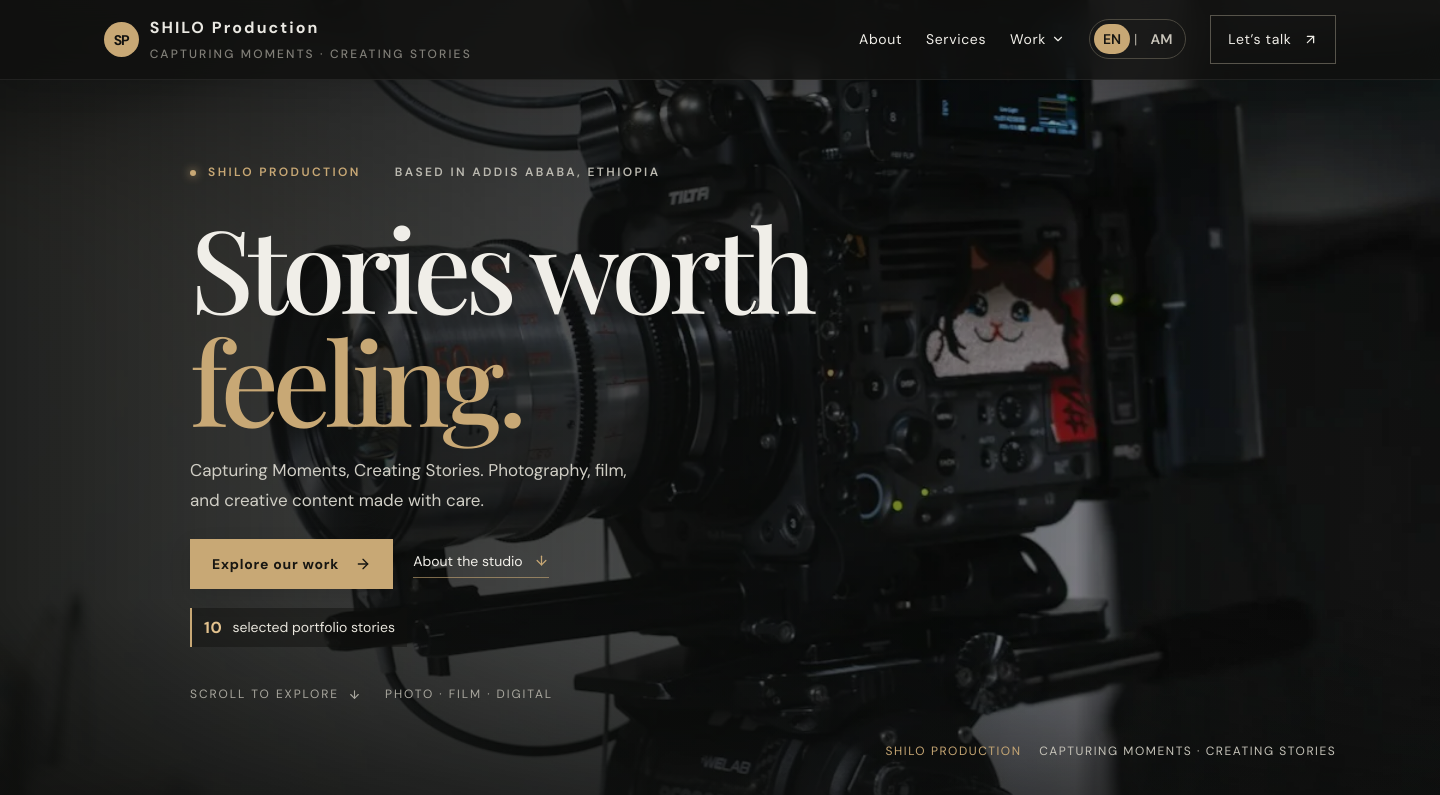
Test: SHILO Production homepage › switches to Amharic and persists the selected language
Click the button with aria-label "Switch to Amharic": point(1161, 40) [1141,24,1181,54]
(page scrolled)
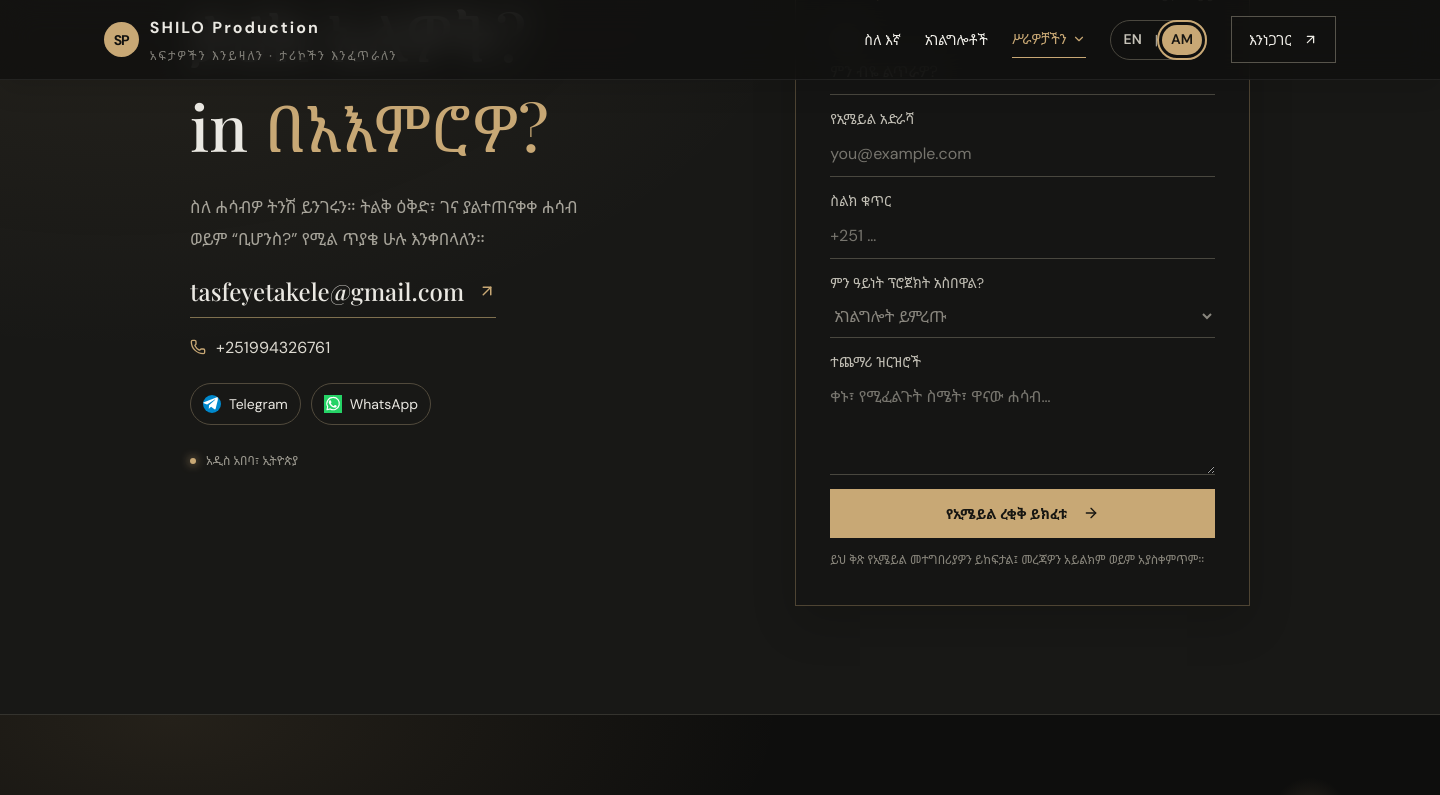
Check: the element named "ለSHILO Production መልዕክት ይላኩ" is shown, box [190,383,431,425]
Check: the field labelled "ስምዎ" is shown, box [830,49,1215,96]
Check: the field labelled "የኢሜይል አድራሻ" is shown, box [830,131,1215,177]
